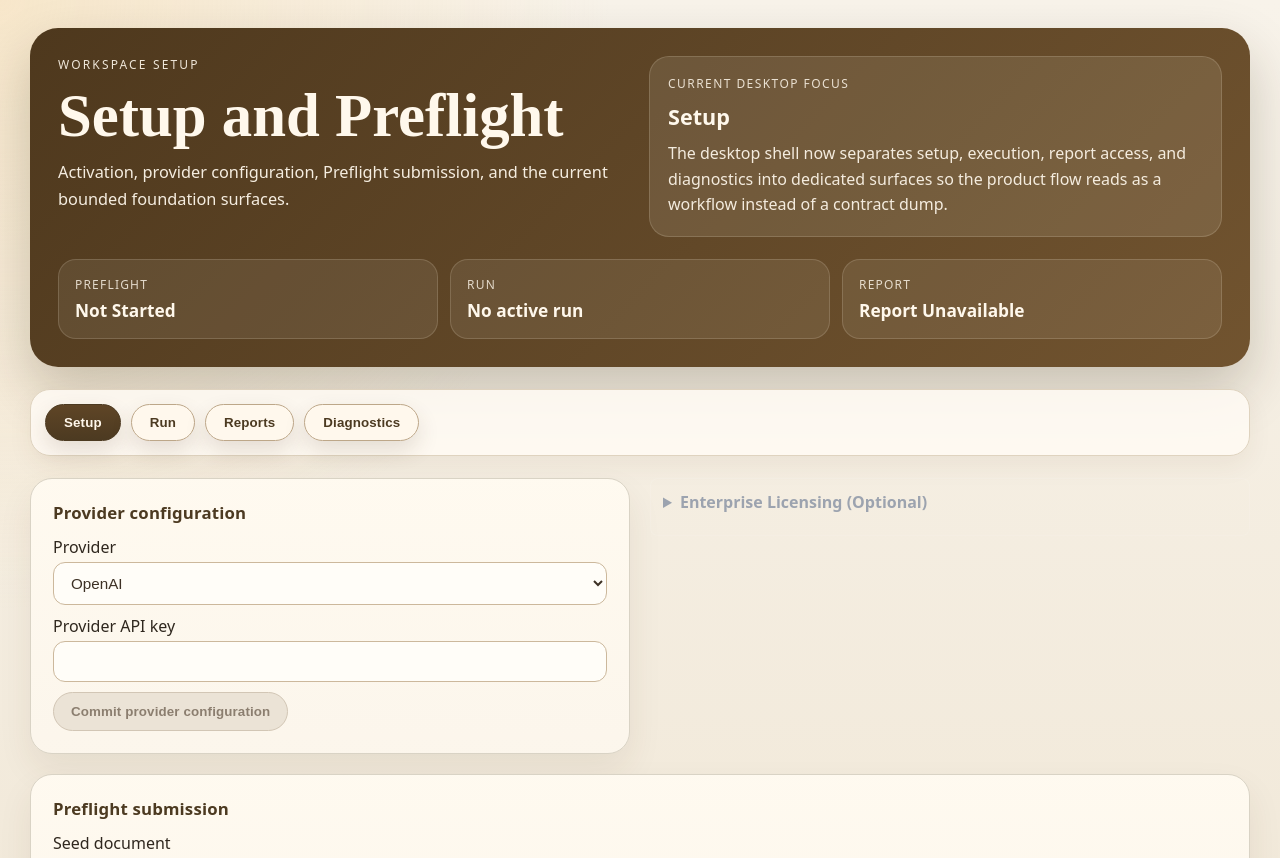
Test: App Wave 7 monitoring-contract UI › renders shell-owned monitoring, chronology, and event contract truth
Click the button "Run" at point(163, 422), box [131, 404, 195, 441]
(page scrolled)
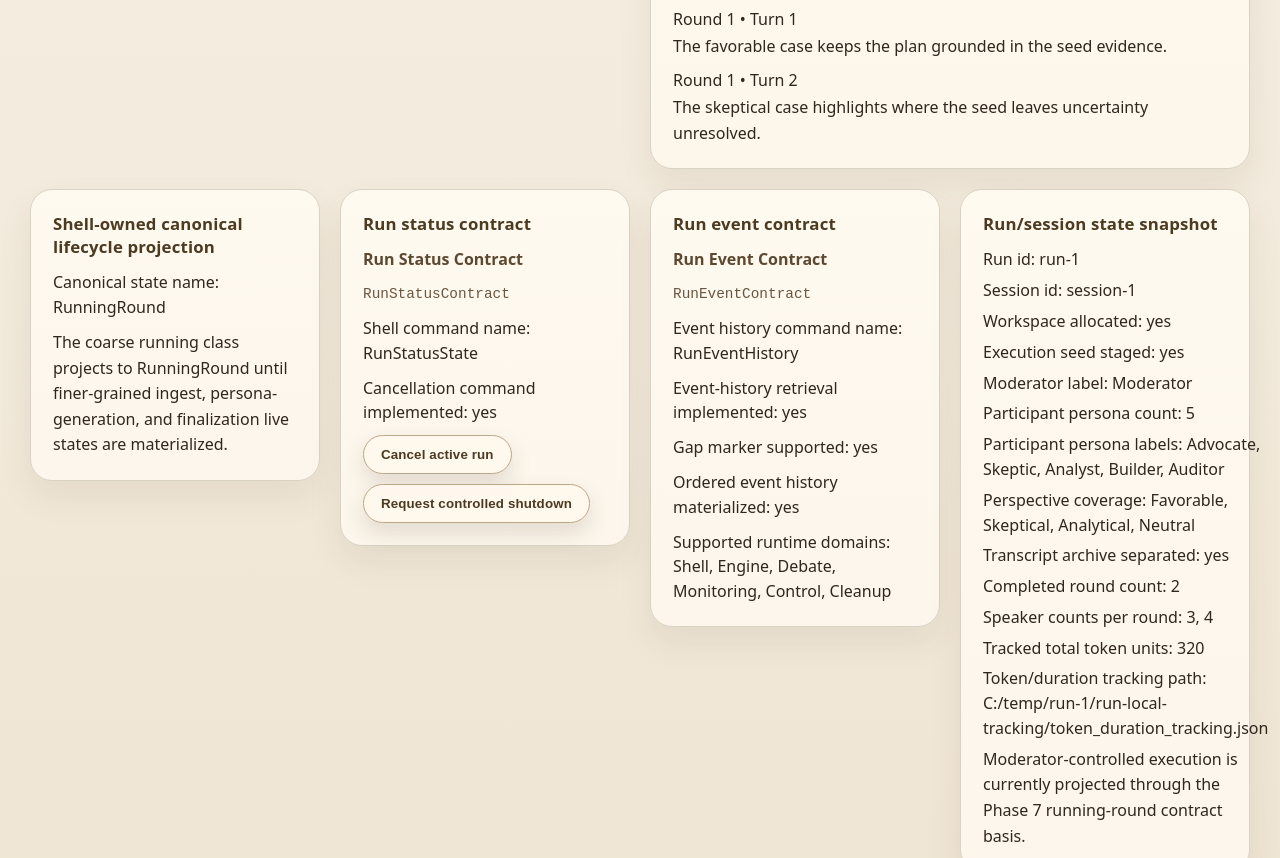
Expected: the text "Round 1 • Turn 1" is shown, [673, 8, 798, 30]
Expected: the text "The favorable case keeps the plan grounded in the seed evidence." is shown, [673, 34, 1227, 59]
Expected: the heading "Shell-owned canonical lifecycle projection" is shown, [53, 212, 243, 258]
